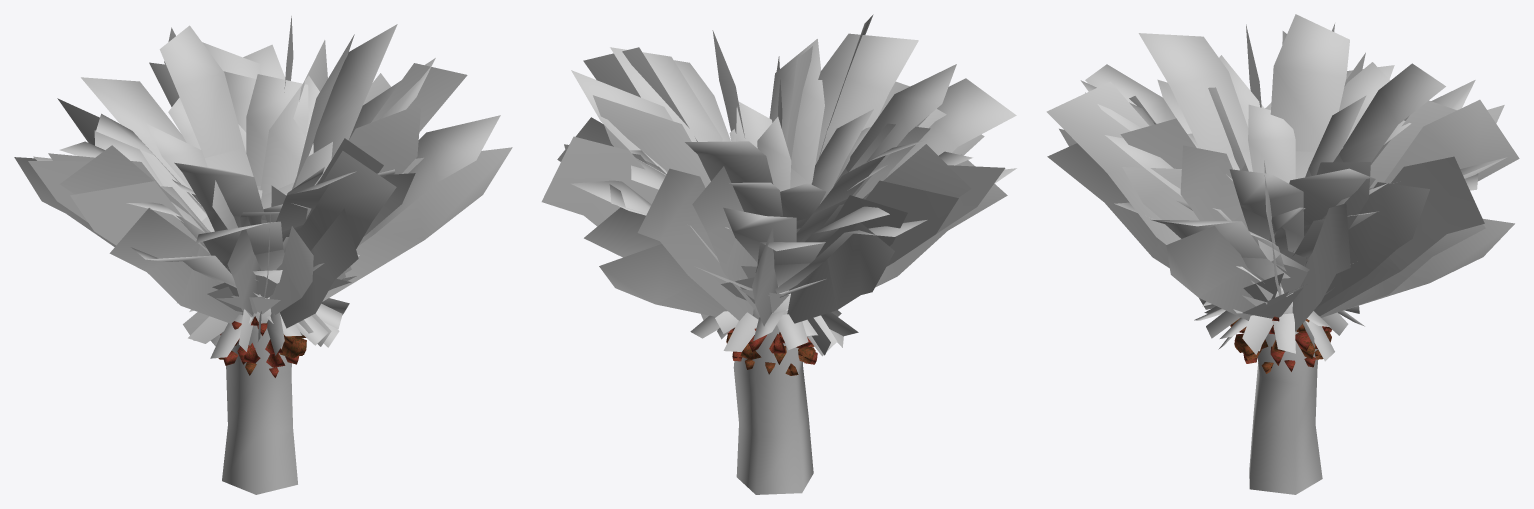
Rendered from Tree6_3_L3.fbx.
3 views of the same model, side by side, from view 1: azimuth 30°, elevation 25°; view 2: azimuth 150°, elevation 25°; view 3: azimuth 270°, elevation 25° (orthographic).
Parts seen in each view (by area): view 1: polySurface101; view 2: polySurface101; view 3: polySurface101.
Boxes of the visible parts, <box> form: polySurface101: <box>14,16,512,494</box>; polySurface101: <box>541,14,1016,494</box>; polySurface101: <box>1046,14,1519,494</box>.
Bounding box in the file's own units: 689 × 631 × 682.
